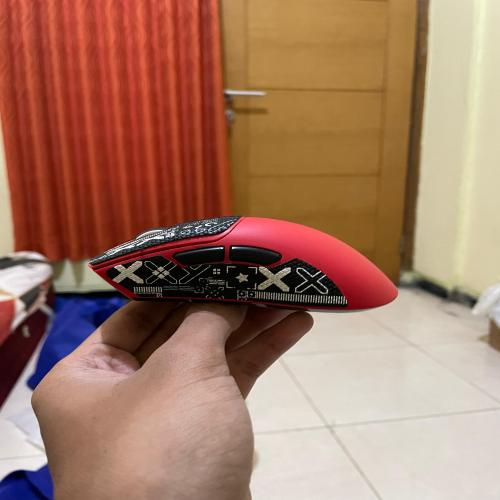mouse: (78, 210, 407, 320)
